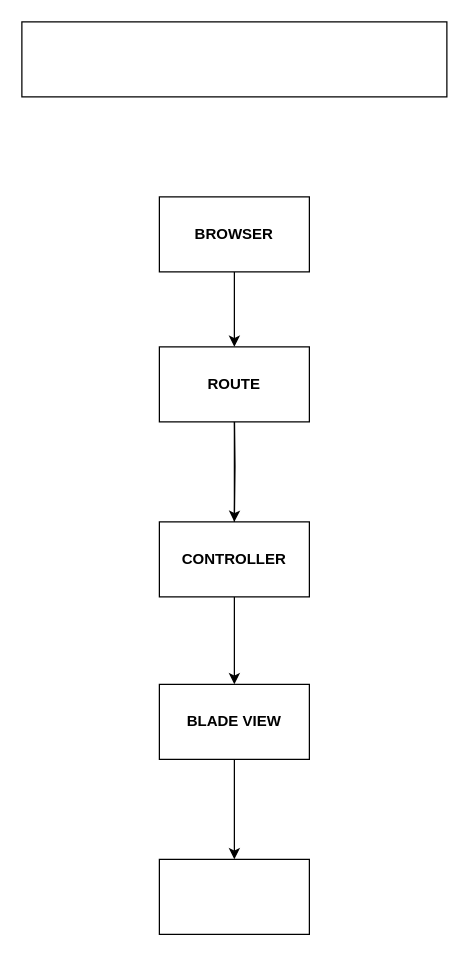
This 469x956 diagram has some shape labels left out. Each missing label, with the box of its shape:
ARCHITECTURE DIAGRAM: (21, 21, 447, 97)
RESPONSE TO BROWSER: (158, 858, 309, 934)
